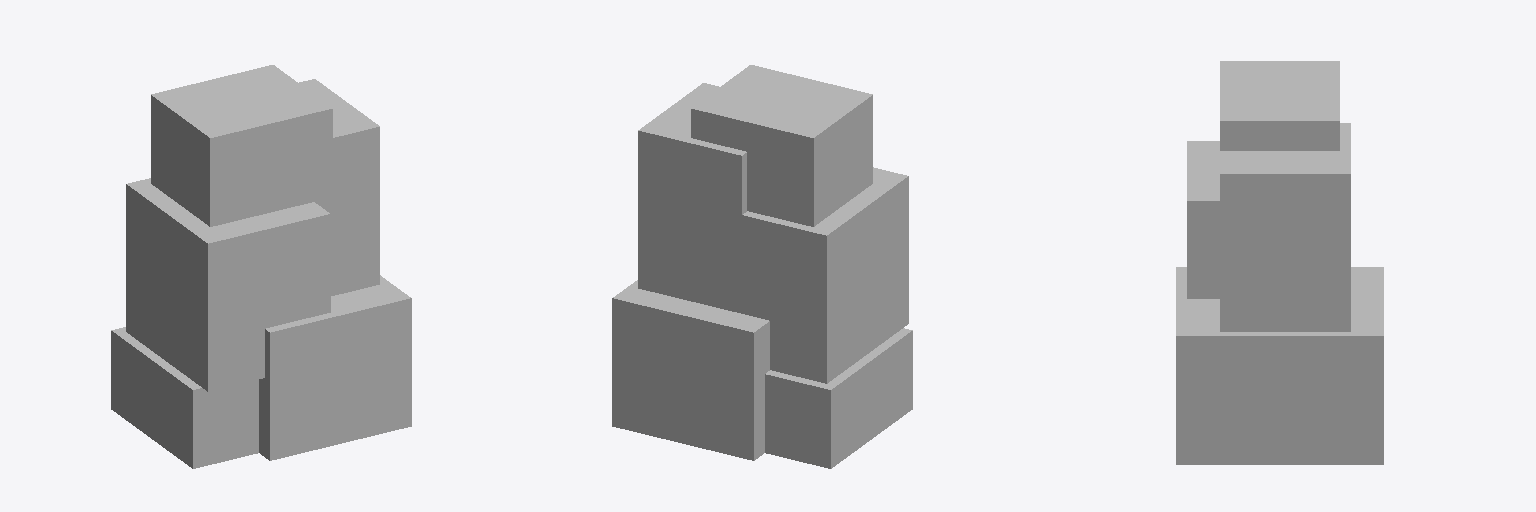
File: ice_block.obj
3 views of the same model, side by side, from view 1: azimuth 30°, elevation 25°; view 2: azimuth 150°, elevation 25°; view 3: azimuth 270°, elevation 25° (orthographic).
Visible parts, largest first — view 1: bone; view 2: bone; view 3: bone.
Boxes of the visible parts, x1=… form: bone: x1=111, y1=65, x2=411, y2=468; bone: x1=612, y1=65, x2=912, y2=468; bone: x1=1176, y1=61, x2=1383, y2=464.
Bounding box in the file's own units: 1.38 × 2 × 1.19.